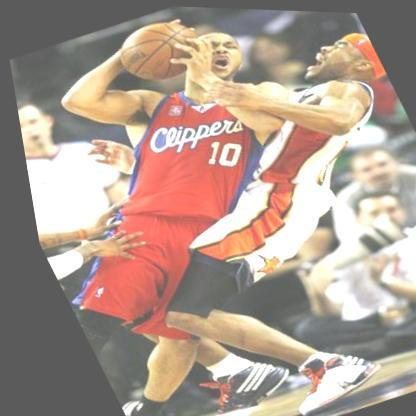basketball: (100, 6, 216, 92)
